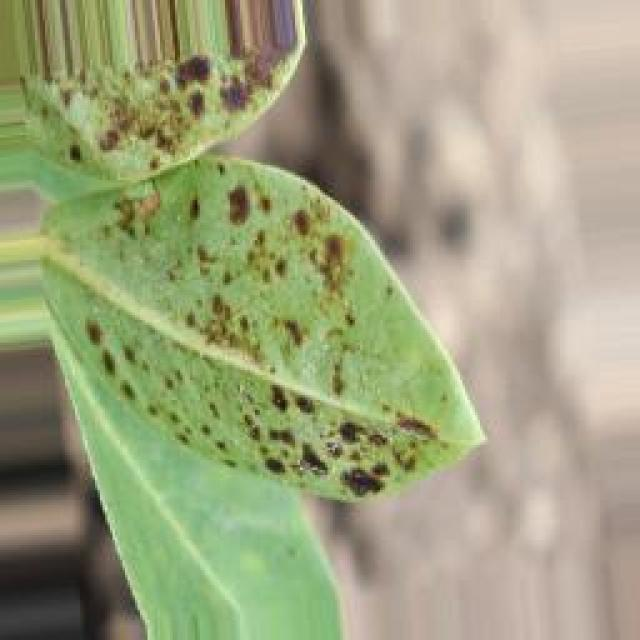Whitefly: (0, 39, 461, 530)
